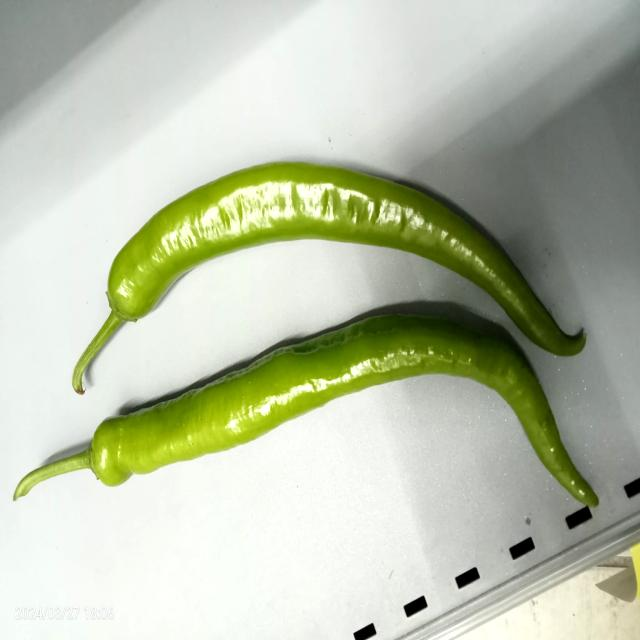green pepper: (0, 134, 591, 514)
